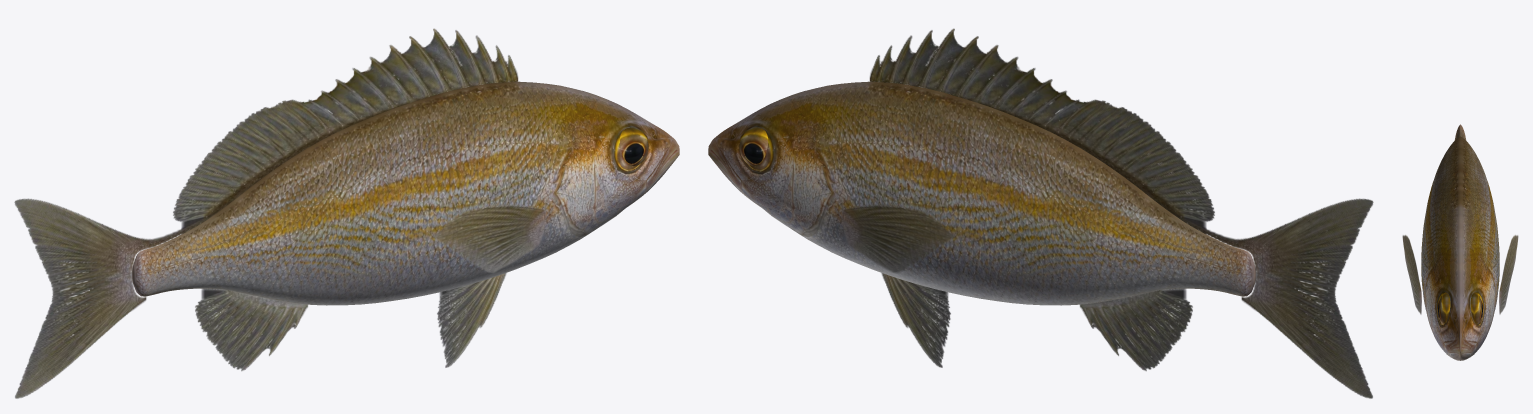
File: isaki.glb
3 renders of one model, left to right at view 1: azimuth 30°, elevation 25°; view 2: azimuth 150°, elevation 25°; view 3: azimuth 270°, elevation 25°, orthographic. The views are drawn at different scales.
Visible parts, largest first — view 1: isaki; view 2: isaki; view 3: isaki.
Part boxes in pixels (bbox=[...]): isaki: bbox=[14, 28, 679, 398]; isaki: bbox=[708, 28, 1373, 398]; isaki: bbox=[1402, 124, 1518, 360].
Bounding box in the file's own units: 0.3505 × 0.1725 × 0.0693.
Materials: 1 (1 with a texture image).
